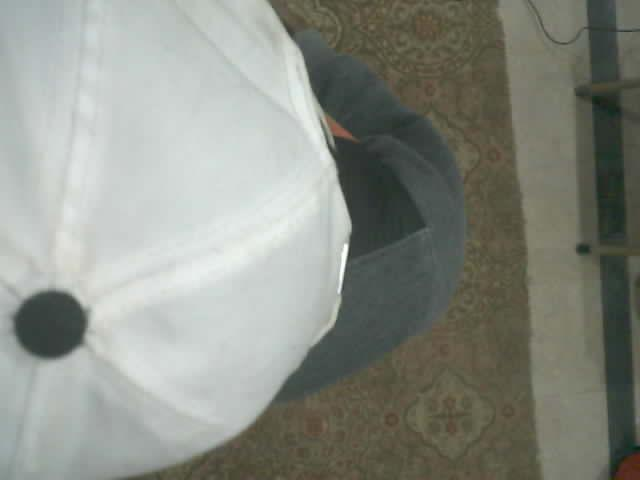cap: (0, 0, 350, 479)
